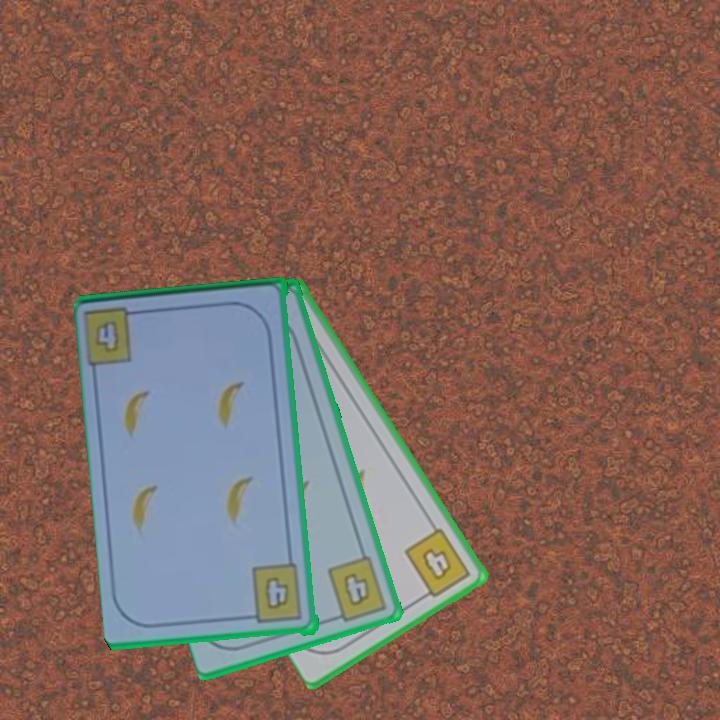4b: (401, 524, 474, 603), (324, 552, 390, 625), (83, 304, 148, 369), (244, 562, 306, 627)
